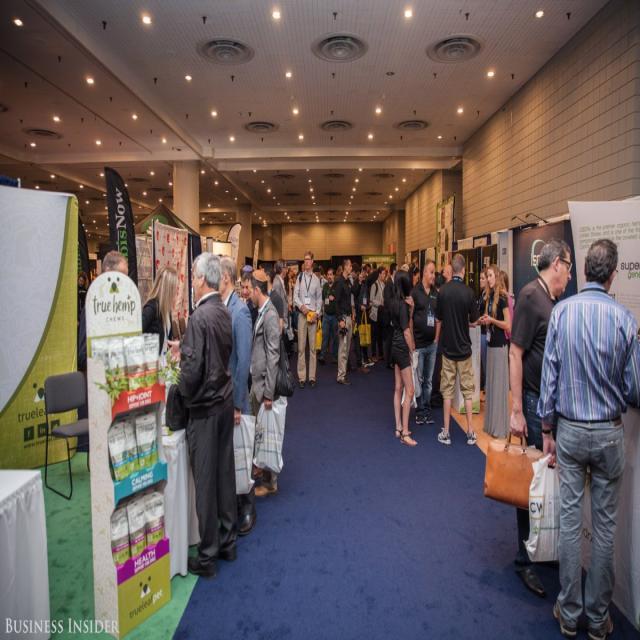body: (532, 235, 640, 639), (163, 247, 241, 582), (506, 234, 574, 600), (215, 234, 464, 292), (218, 255, 258, 537), (433, 251, 482, 447), (247, 269, 285, 499), (77, 250, 130, 370), (408, 258, 444, 426), (482, 261, 513, 443), (388, 268, 419, 447), (290, 248, 322, 391), (140, 265, 178, 361), (480, 263, 500, 412), (332, 255, 354, 390), (345, 262, 371, 374), (319, 266, 340, 366), (259, 262, 285, 340), (382, 262, 399, 371), (499, 269, 514, 391), (358, 273, 377, 369), (370, 265, 387, 363), (272, 258, 288, 354), (288, 292, 298, 370), (77, 270, 89, 326)
